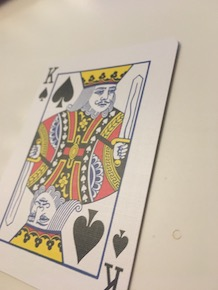KingOfSpades: (1, 39, 184, 289)
